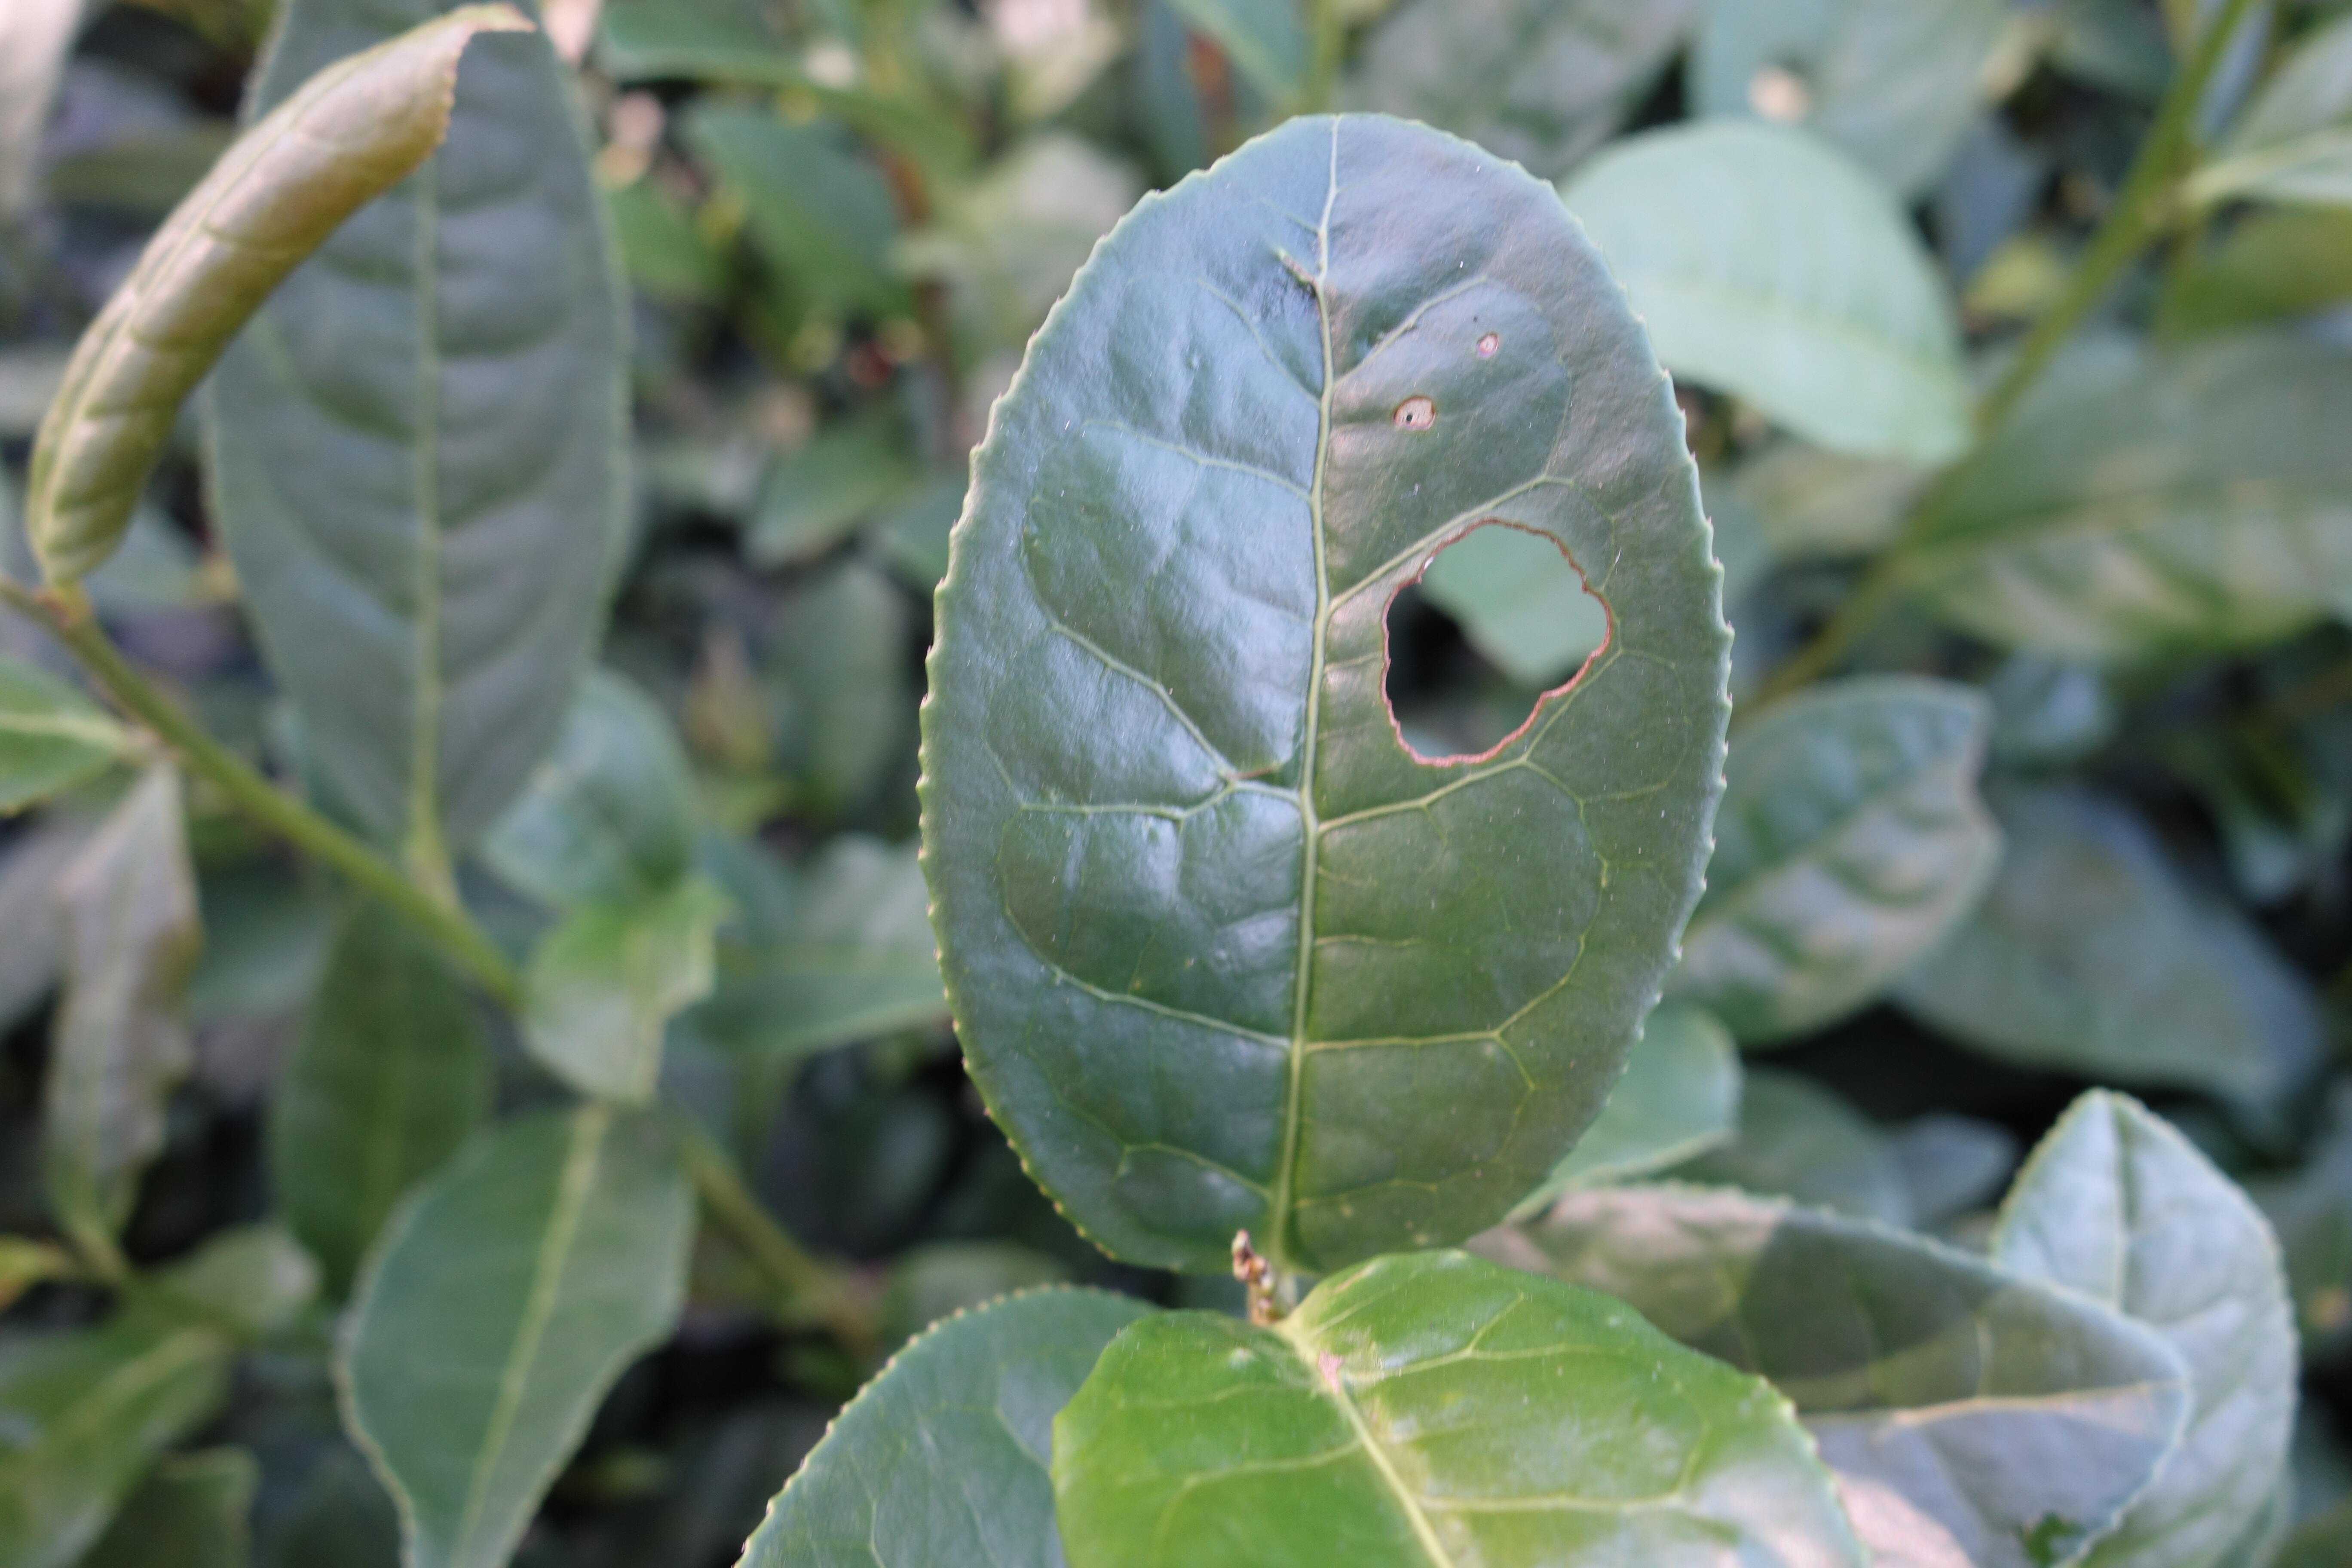chihuo_low: (915, 107, 1734, 1286)
tanju_low: (28, 5, 544, 618)
